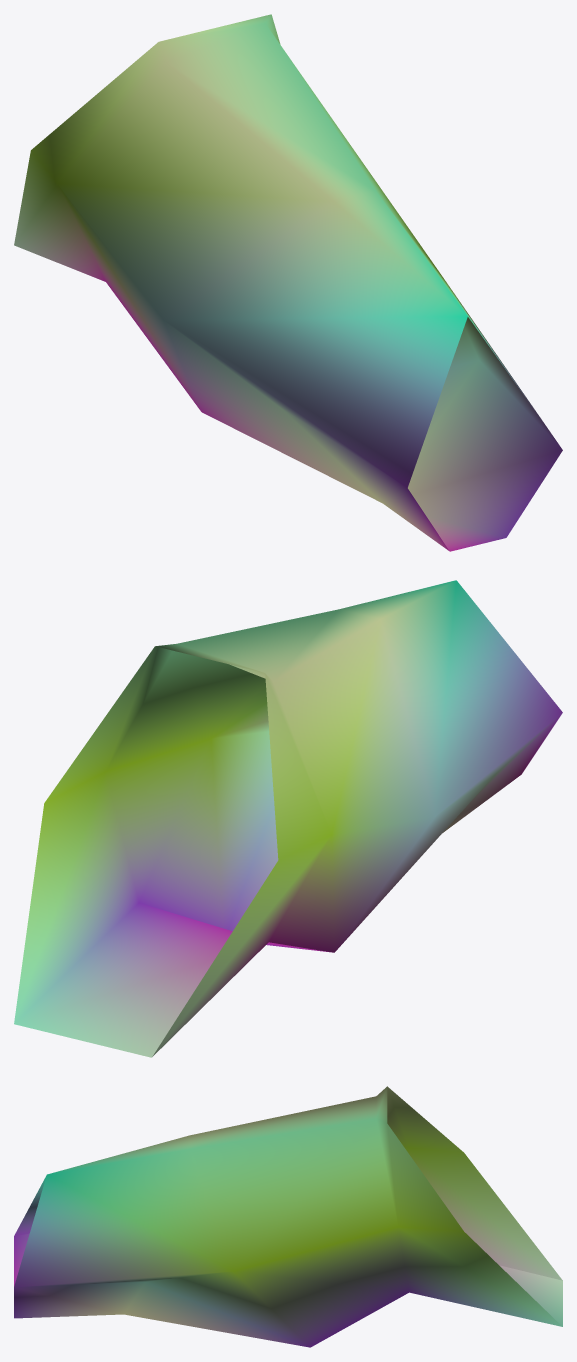
3 renders of one model, top to bottom at view 1: azimuth 30°, elevation 25°; view 2: azimuth 150°, elevation 25°; view 3: azimuth 270°, elevation 25°, orthographic. The views are drawn at different scales.
Visible parts, largest first — view 1: part; view 2: part; view 3: part.
Part boxes in pixels (bbox=[...]): part: bbox=[14, 14, 562, 551]; part: bbox=[14, 580, 562, 1057]; part: bbox=[14, 1086, 562, 1347].
Bounding box in the file's own units: 18 × 23 × 50.
